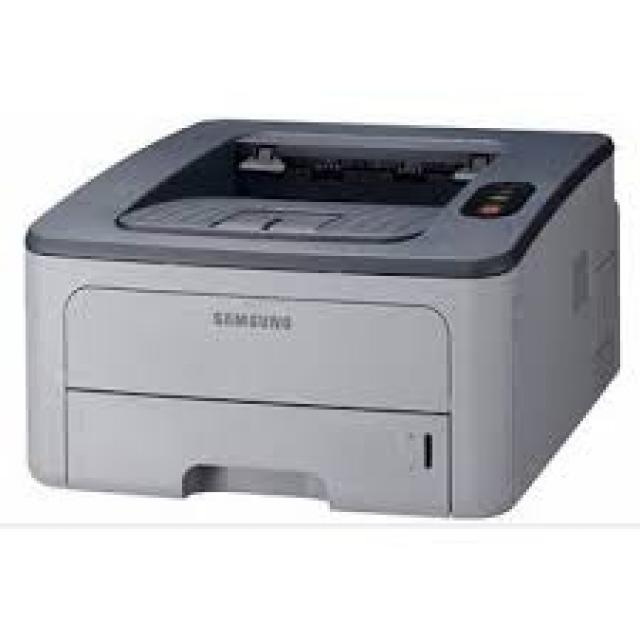printer: (14, 105, 626, 522)
